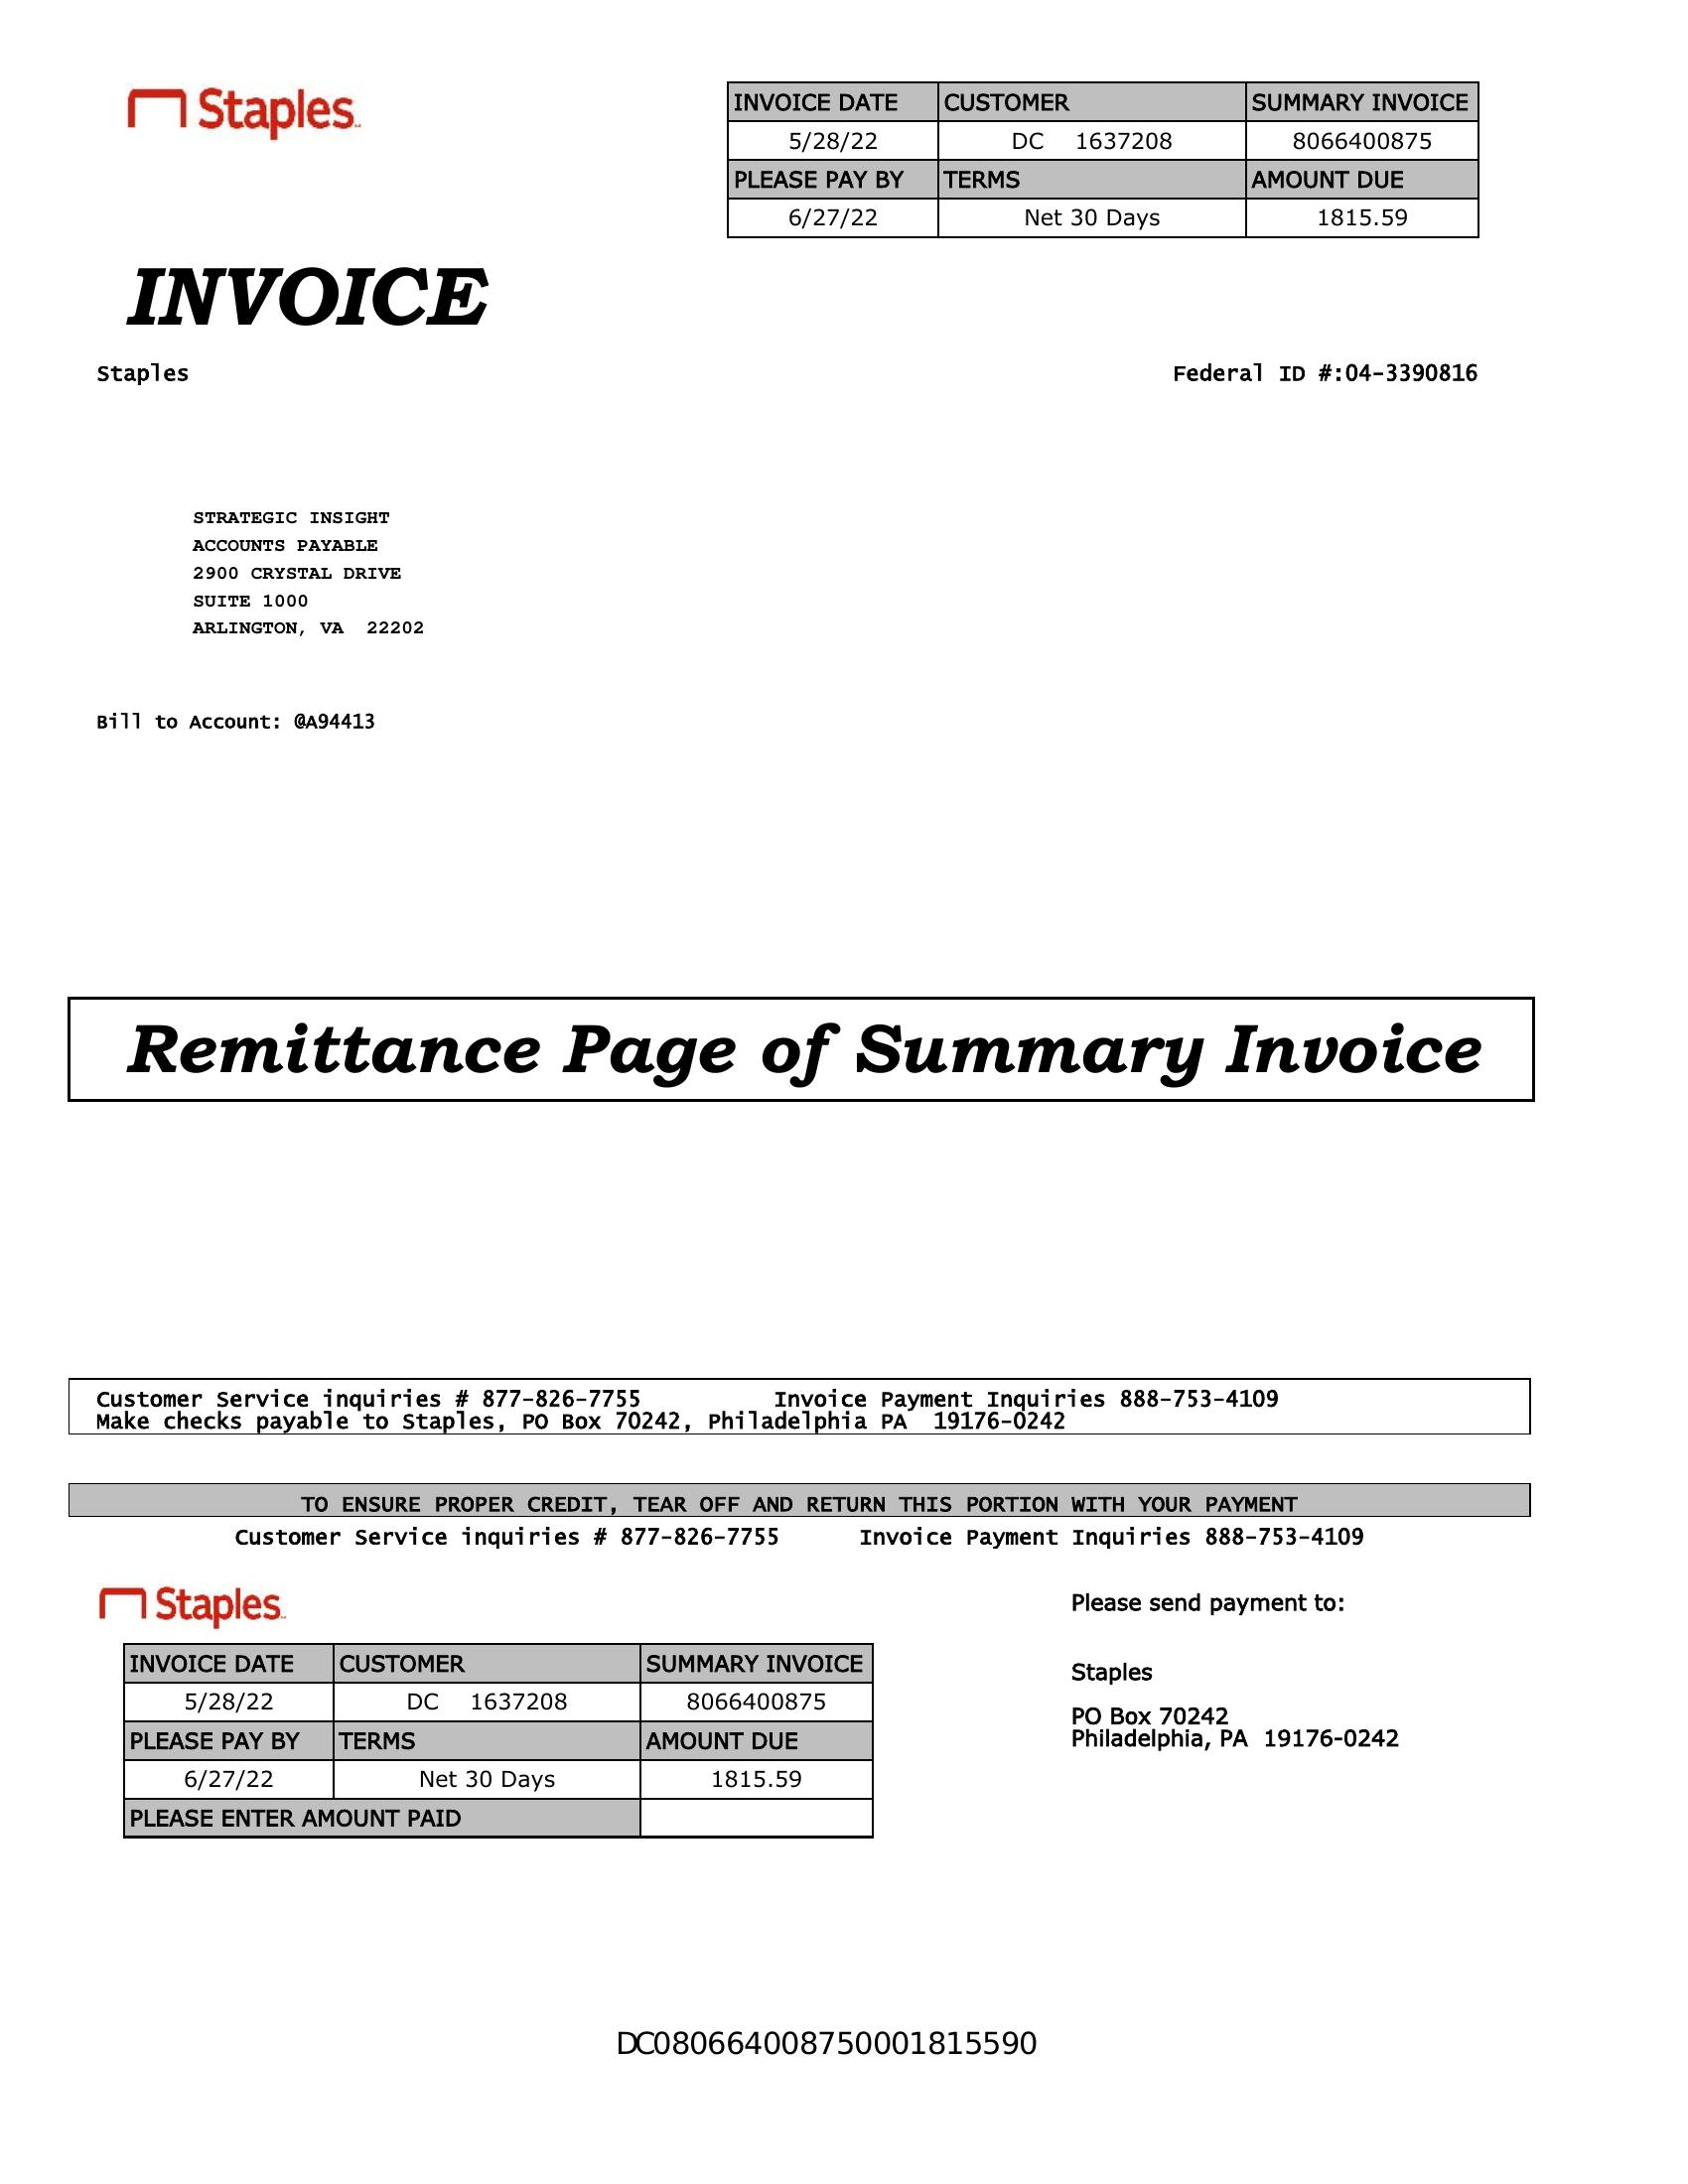table: (723, 71, 1495, 255), (121, 1650, 897, 1829)
